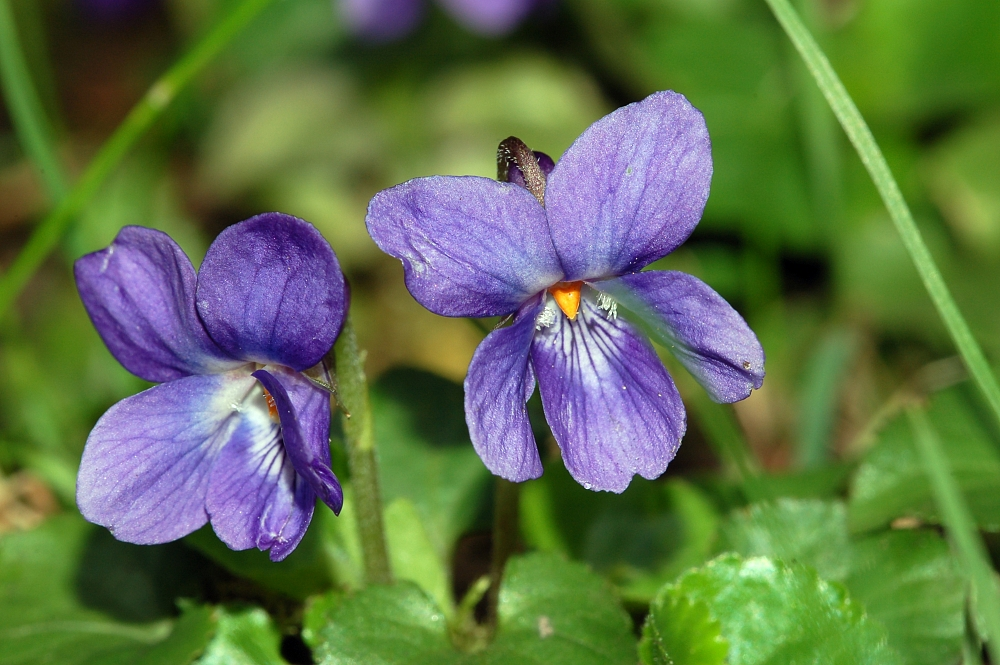violet: (357, 89, 774, 524), (47, 208, 349, 558)
